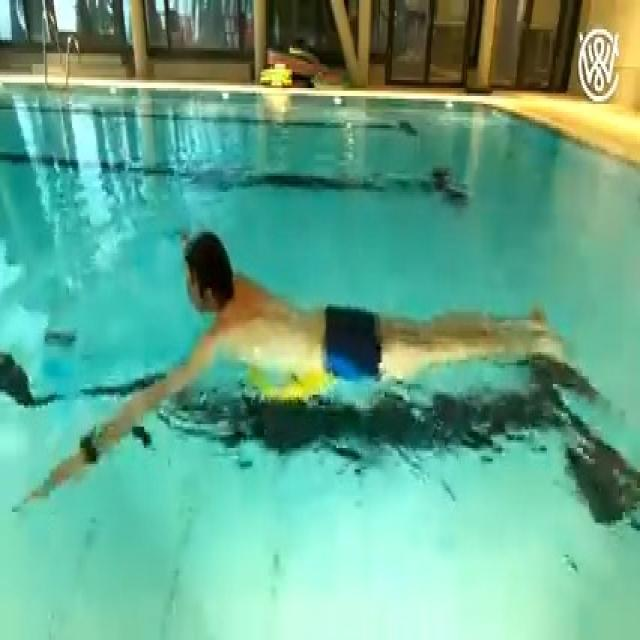Swimming: (22, 231, 572, 495)
